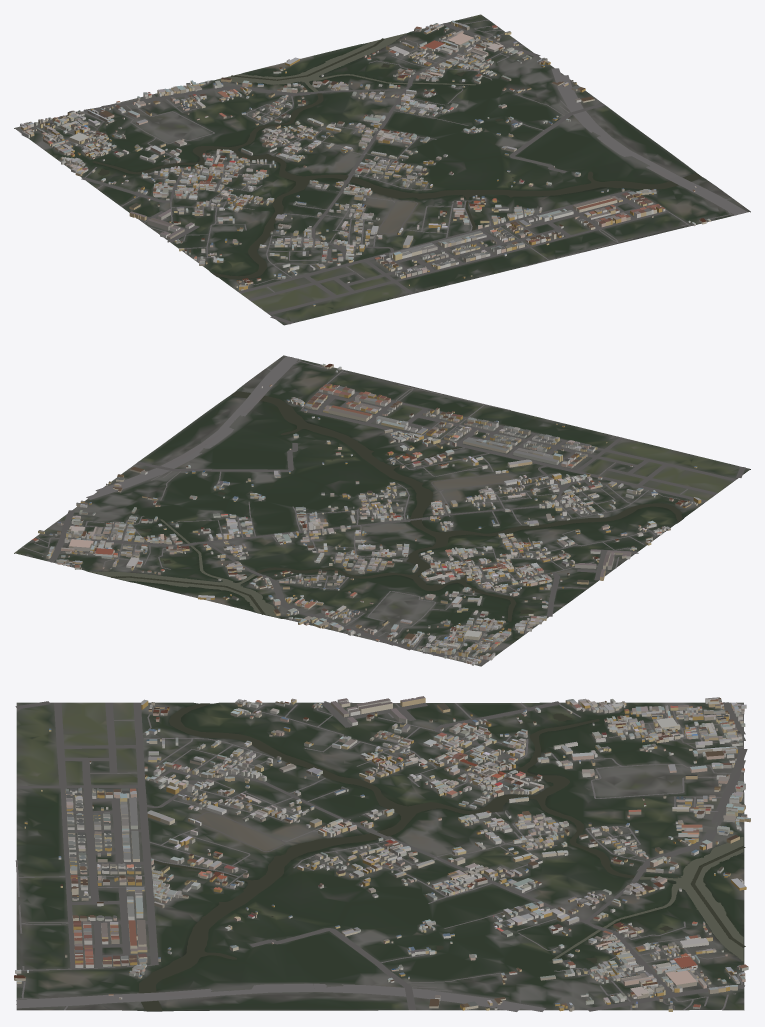
The picture shows the model from 3 angles, top to bottom: view 1: azimuth 30°, elevation 25°; view 2: azimuth 150°, elevation 25°; view 3: azimuth 270°, elevation 25°; orthographic projection. The views are drawn at different scales.
Parts seen in each view (by area): view 1: ground, buildings, roads, water; view 2: ground, buildings, roads, water; view 3: ground, buildings, roads, water.
Boxes of the visible parts, bbox=[...] form: ground: bbox=[14, 14, 750, 325]; buildings: bbox=[20, 20, 710, 306]; roads: bbox=[19, 20, 747, 324]; water: bbox=[92, 33, 702, 279]; ground: bbox=[14, 355, 750, 666]; buildings: bbox=[32, 363, 701, 665]; roads: bbox=[22, 356, 745, 662]; water: bbox=[90, 391, 682, 621]; ground: bbox=[16, 702, 744, 1011]; buildings: bbox=[14, 696, 750, 1011]; roads: bbox=[15, 701, 747, 1011]; water: bbox=[138, 703, 745, 1010].
Bounding box in the file's own units: 1419 × 22.97 × 1419.
